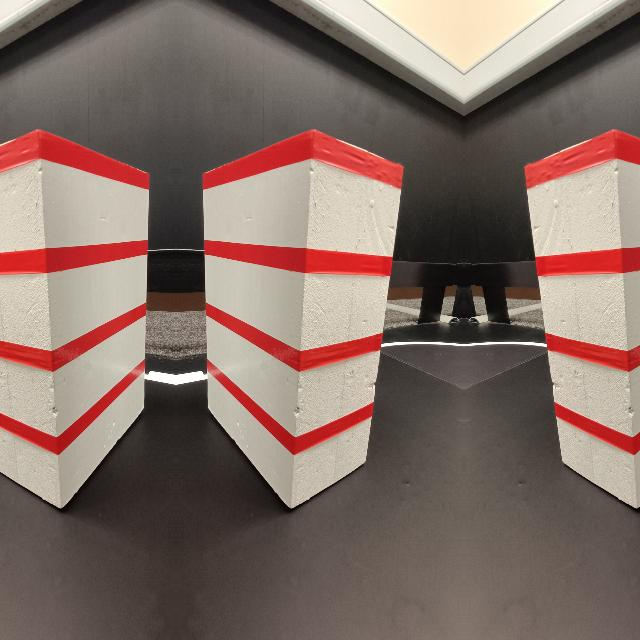obstacle: (201, 129, 403, 509), (0, 129, 149, 509), (525, 129, 640, 509)
